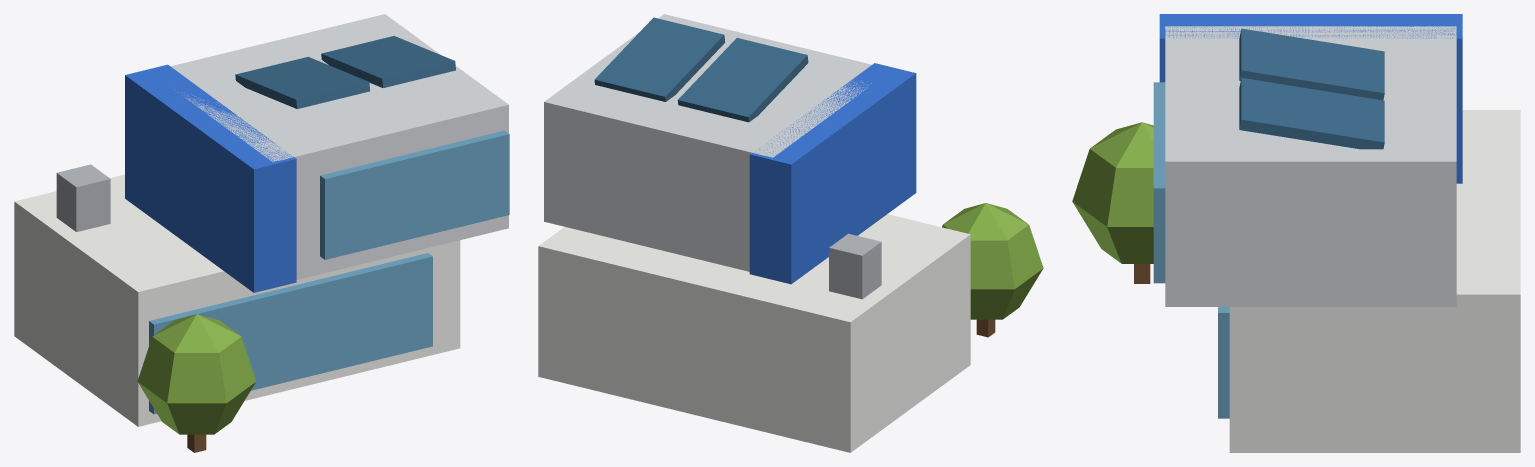
Rendered from house_5_b.glb.
The picture shows the model from 3 angles, left to right: view 1: azimuth 30°, elevation 25°; view 2: azimuth 150°, elevation 25°; view 3: azimuth 270°, elevation 25°; orthographic projection. The views are drawn at different scales.
Visible parts, largest first — view 1: house_5_b; view 2: house_5_b; view 3: house_5_b.
Boxes of the visible parts, x1,y1,x2,y2 form: house_5_b: (14, 14, 509, 452); house_5_b: (538, 14, 1043, 452); house_5_b: (1072, 14, 1520, 452).
Size of the model in its own units: 0.1708 by 0.1263 by 0.154.
